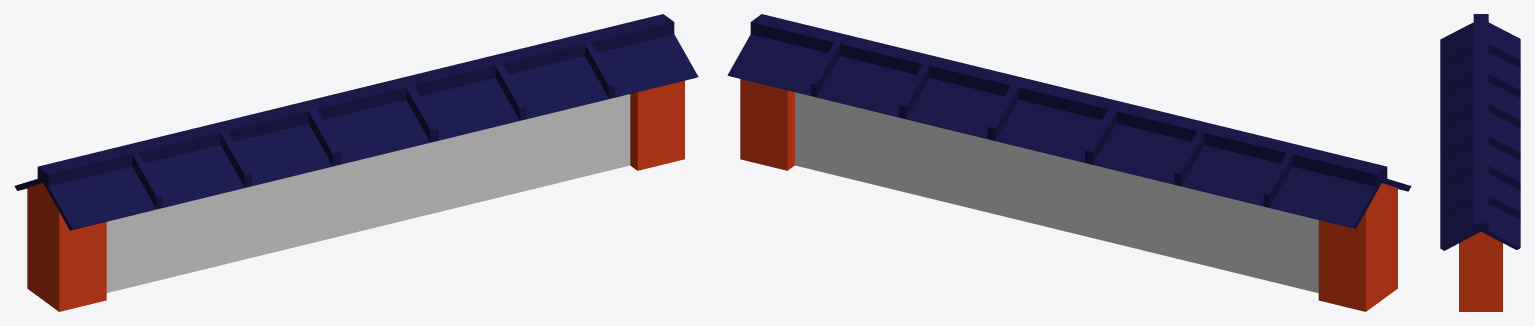
Rendered from Wall-Short.fbx.
The picture shows the model from 3 angles, left to right: view 1: azimuth 30°, elevation 25°; view 2: azimuth 150°, elevation 25°; view 3: azimuth 270°, elevation 25°; orthographic projection. The views are drawn at different scales.
Visible parts, largest first — view 1: Wall Short; view 2: Wall Short; view 3: Wall Short.
Part boxes in pixels (x1,y1,x2,y2): Wall Short: [14, 14, 698, 311]; Wall Short: [727, 14, 1411, 311]; Wall Short: [1440, 14, 1520, 311].
Bounding box in the file's own units: 1000 × 198 × 162.
